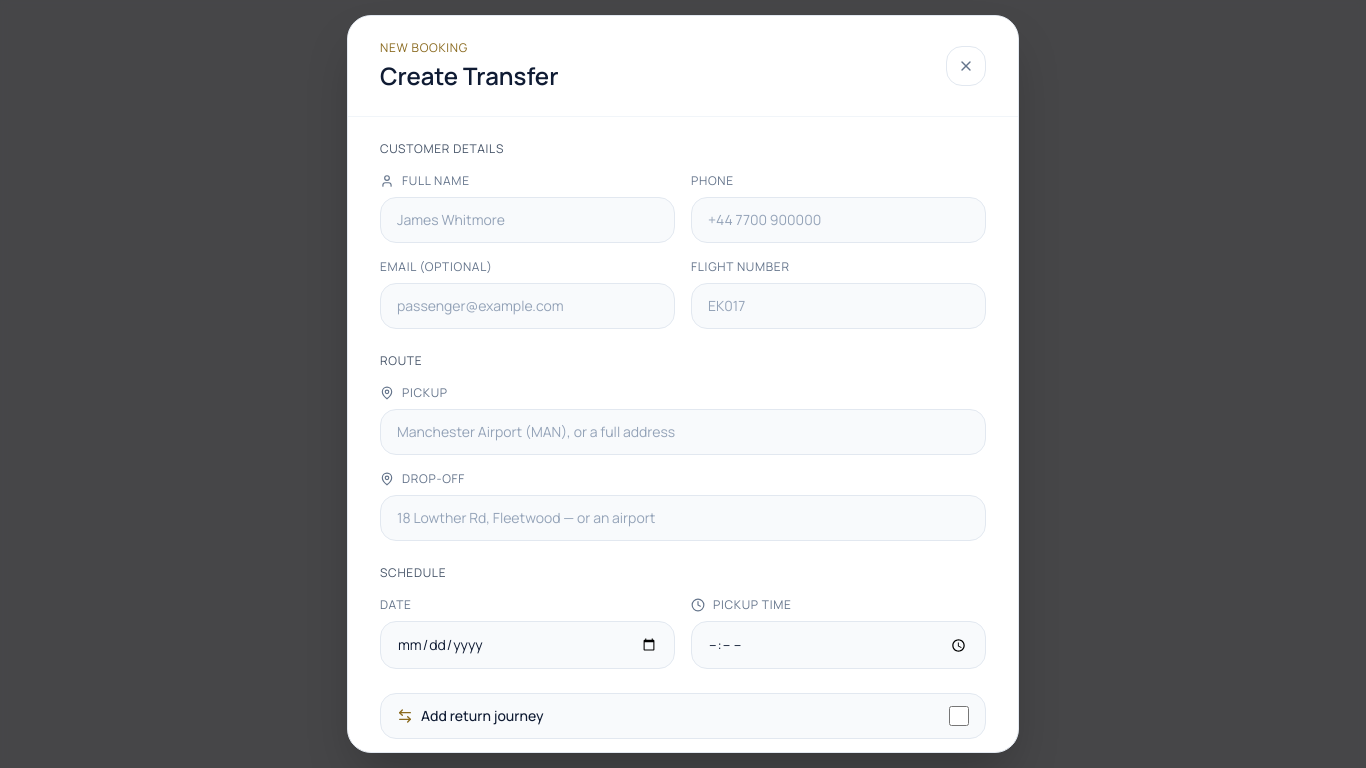
Test: BookingModal — suggested price › follows the route when it changes
Type "Manchester Airport" into the field with placeholder "Manchester Airport (MAN), or a full address" at (683, 432), box [380, 409, 986, 455]
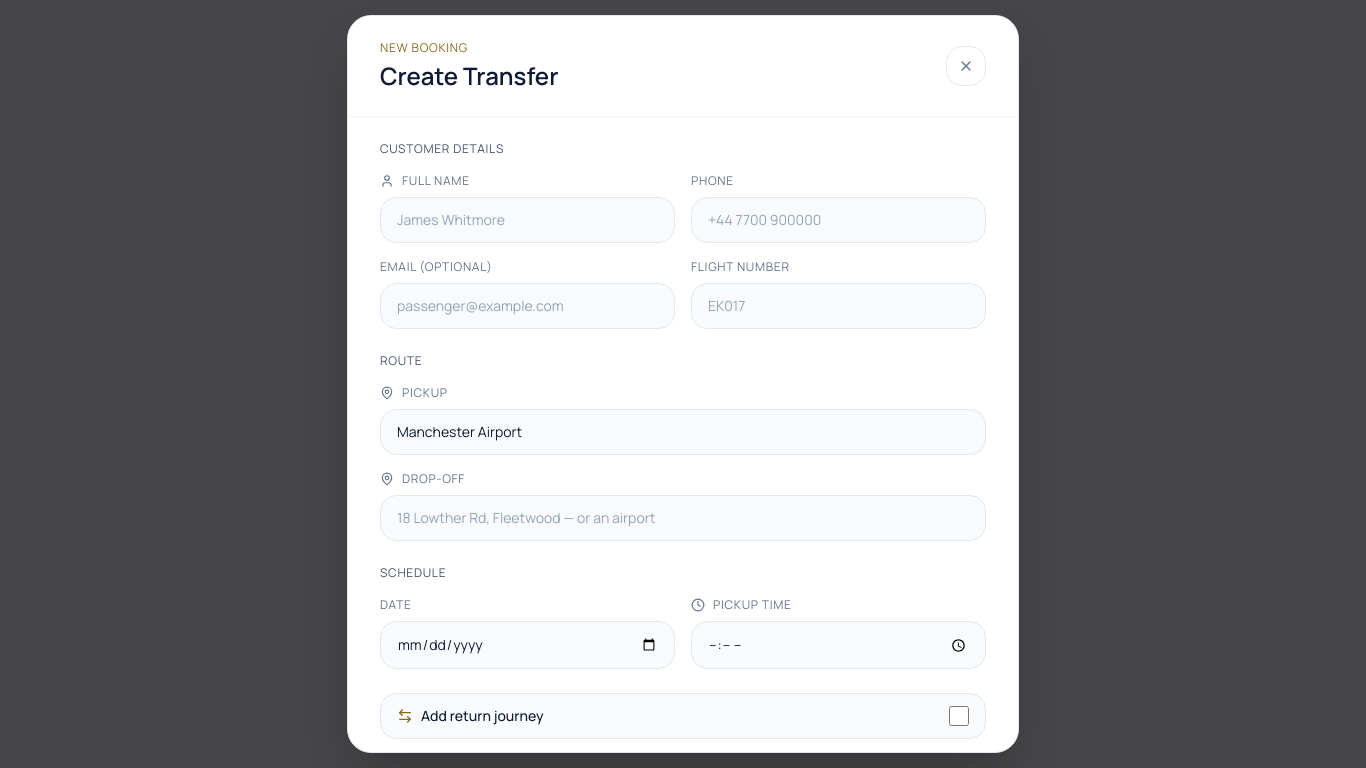
Replace the text in the field with placeholder "Manchester Airport (MAN), or a full address" with "Liverpool Airport" at (683, 432), box [380, 409, 986, 455]
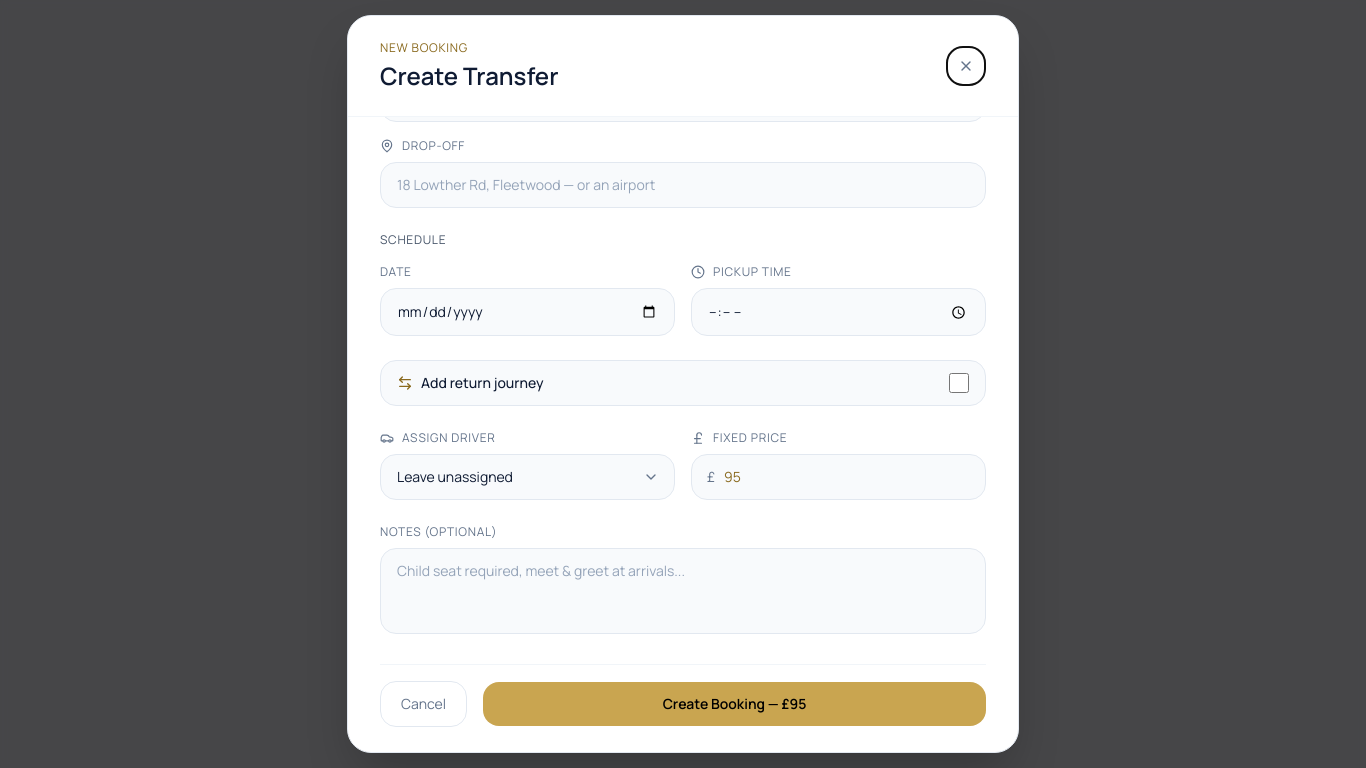
Expected: the number field with placeholder "0" holds "95", [691, 454, 986, 500]
